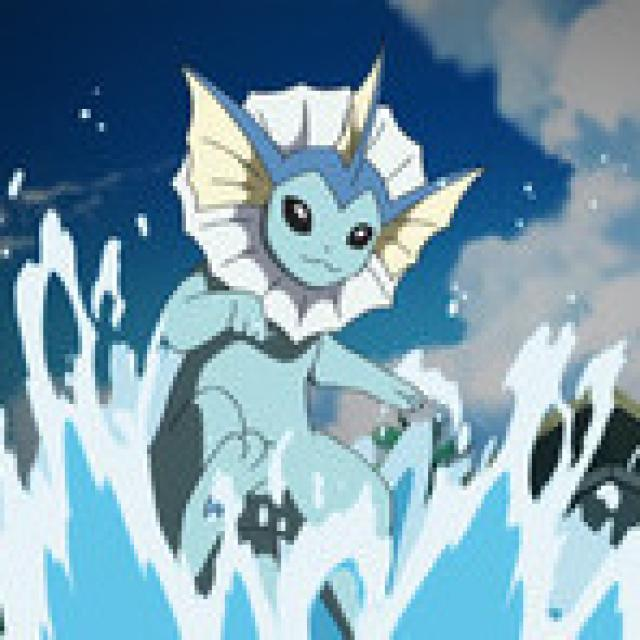Vaporeon: (172, 63, 420, 601)
